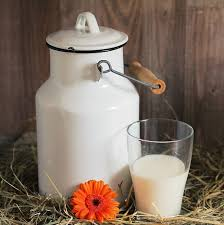glass of milk: (124, 117, 198, 221)
